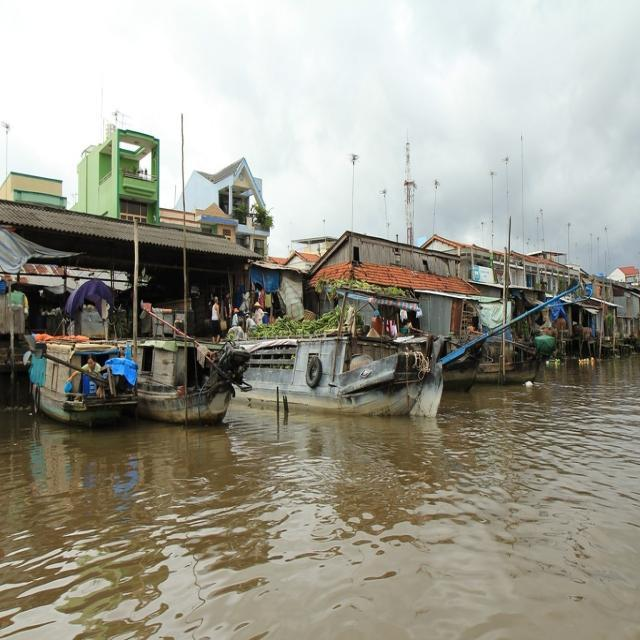boat: (120, 320, 248, 430), (36, 331, 136, 426)
